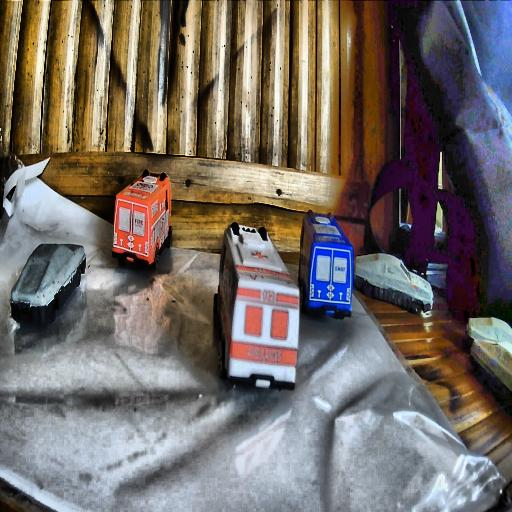ambulance: (214, 223, 300, 390)
fire_truck: (112, 169, 172, 270)
normal_car: (9, 240, 88, 328)
police car: (299, 210, 354, 320)
